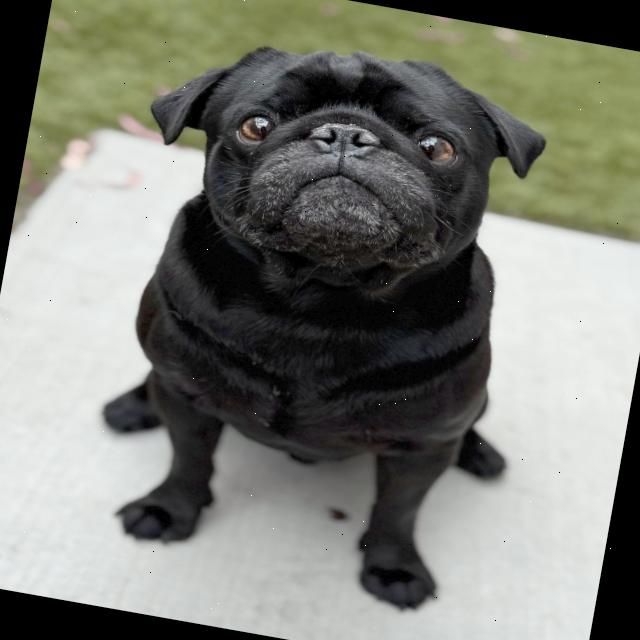pug_dog: (102, 1, 574, 334)
